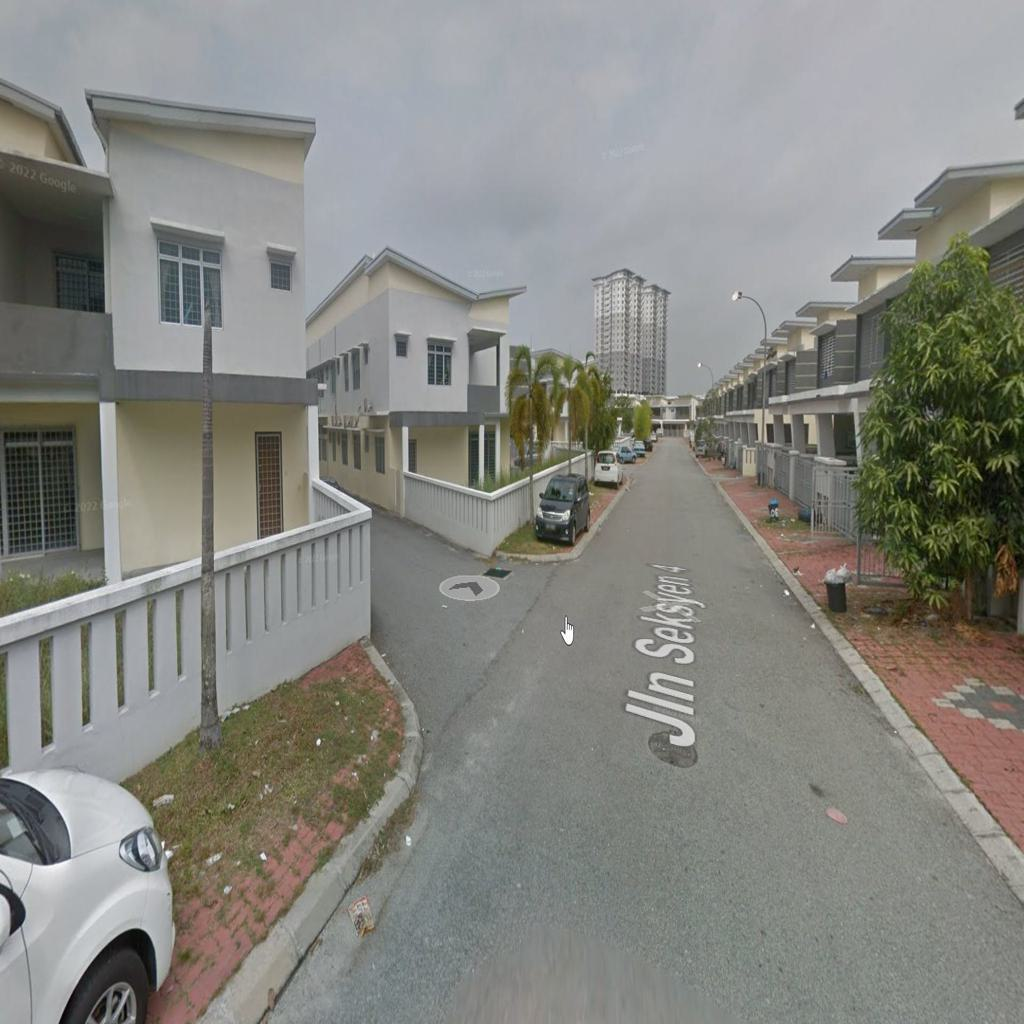Junction: (369, 488, 580, 776)
